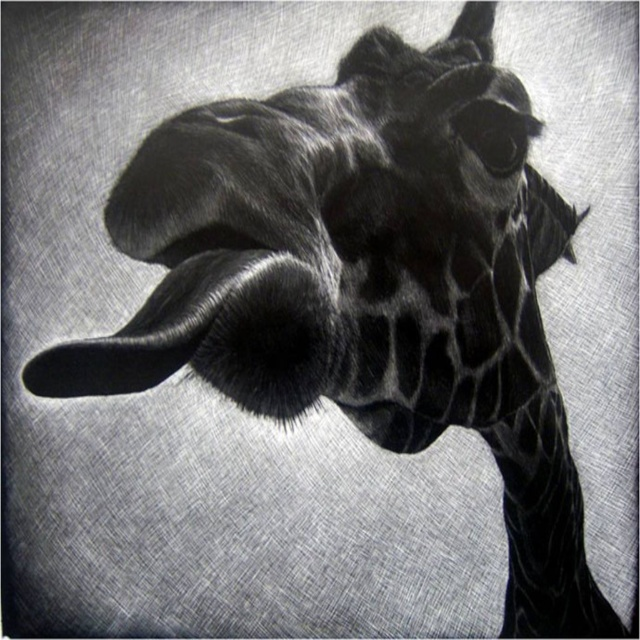Giraffe: (27, 0, 632, 639)
